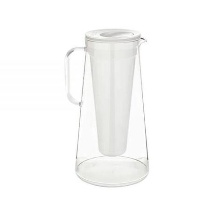glass: (48, 20, 158, 192)
